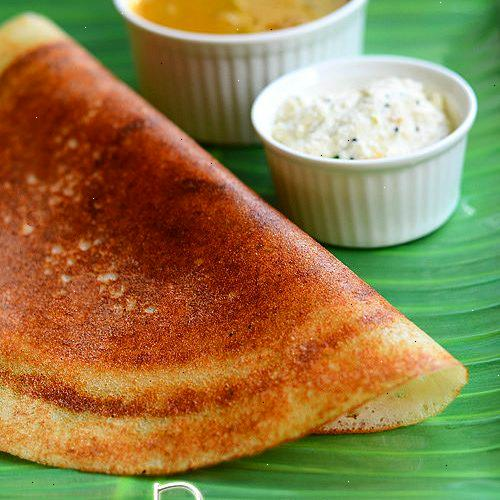dosa: (2, 33, 378, 473)
sambhar: (128, 0, 351, 30)
